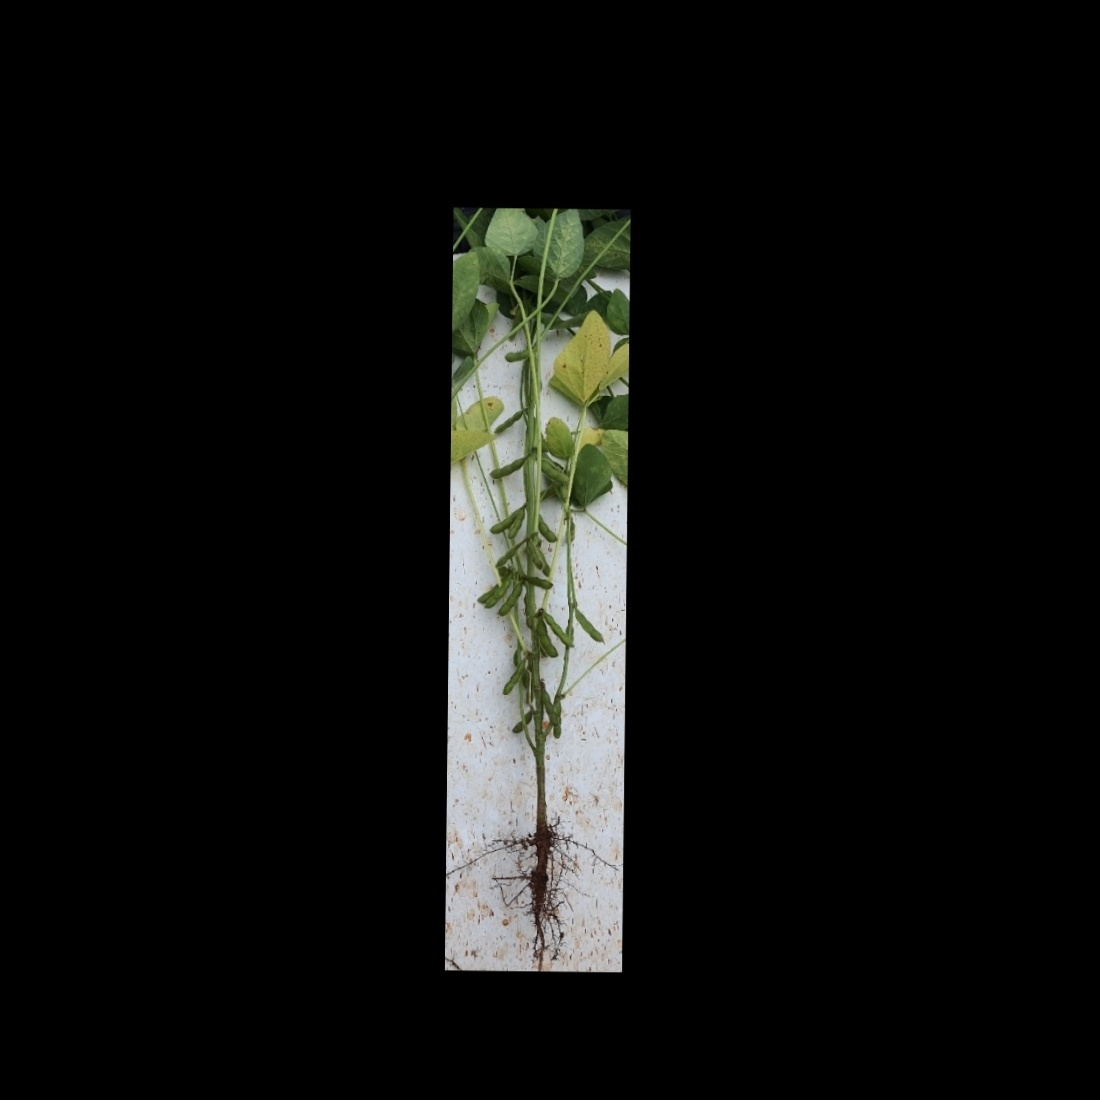pod: (486, 450, 533, 482), (489, 403, 532, 436), (572, 604, 605, 644), (544, 610, 579, 647), (501, 656, 527, 697), (492, 540, 529, 568), (498, 581, 525, 618), (534, 617, 558, 658), (533, 514, 560, 543), (509, 707, 533, 736), (502, 345, 534, 364), (523, 573, 554, 590), (551, 699, 563, 741)
soy: (462, 240, 613, 937)
